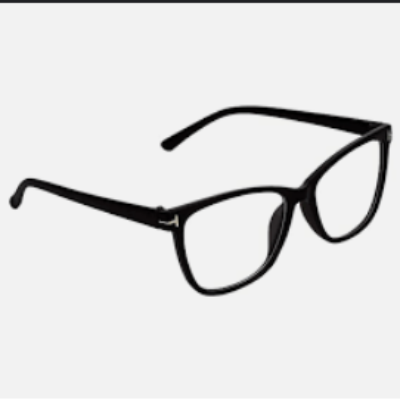glasses: (8, 102, 400, 300)
